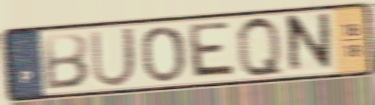B: (42, 31, 91, 92)
E: (188, 20, 239, 80)
N: (286, 10, 335, 78)
O: (139, 24, 187, 85)
Q: (233, 13, 288, 80)
U: (87, 25, 139, 90)
